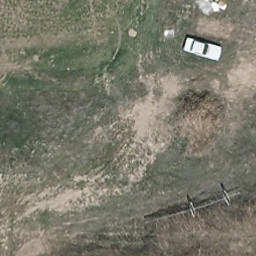car: (182, 37, 223, 61)
